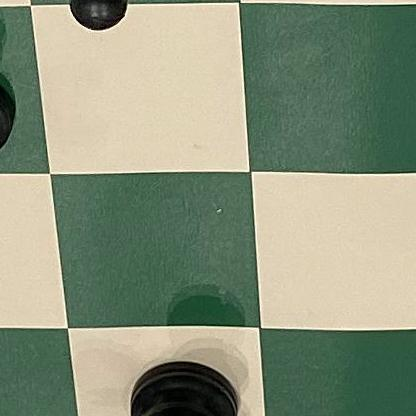black-pawn: (46, 0, 181, 46)
black-rook: (119, 350, 249, 416)
